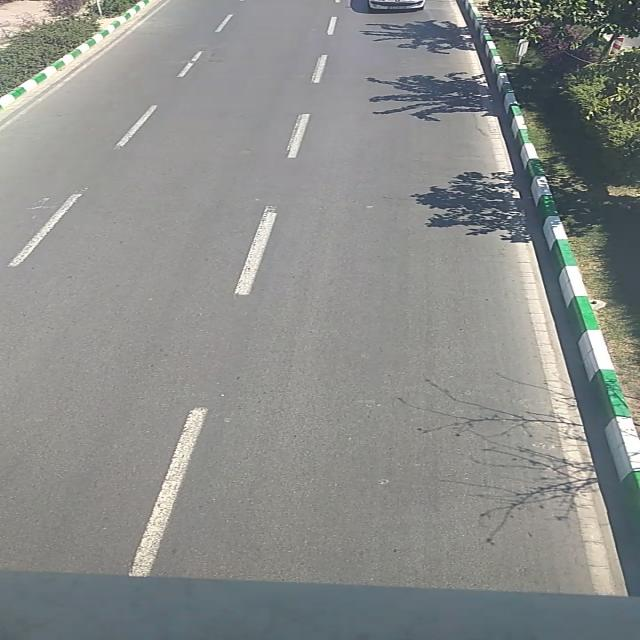car: (368, 1, 428, 11)
